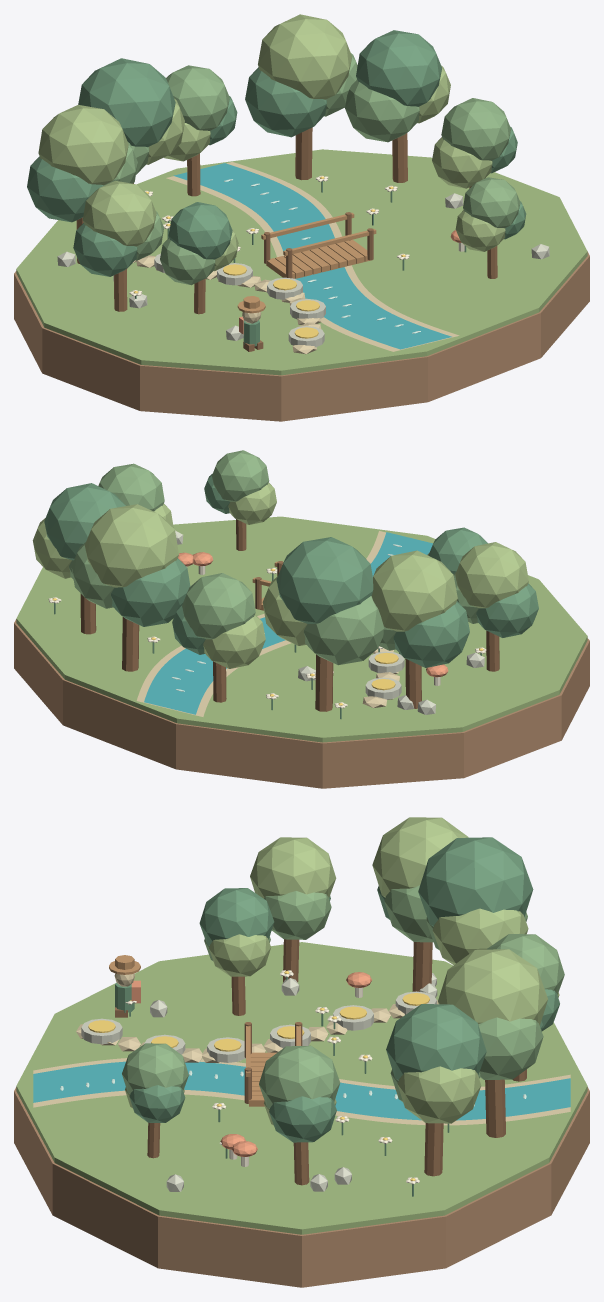
The model's file is plantini-forest.glb.
3 views of the same model, one above another, from view 1: azimuth 30°, elevation 25°; view 2: azimuth 150°, elevation 25°; view 3: azimuth 270°, elevation 25° (orthographic). The views are drawn at different scales.
Parts seen in each view (by area): view 1: Moss island top, Rounded earth island, Flowing woodland stream, Reusable canopy.011, Reusable canopy.005, Reusable canopy.002, Reusable canopy.014, Reusable canopy.020, Reusable canopy.009, Reusable canopy.017, Reusable canopy.012, Reusable canopy.008 (+20 smaller); view 2: Moss island top, Rounded earth island, Reusable canopy.005, Reusable canopy.011, Reusable canopy.002, Flowing woodland stream, Reusable canopy.003, Reusable canopy.020, Reusable canopy.008, Reusable canopy.009, Reusable canopy.014, Reusable canopy (+20 smaller); view 3: Moss island top, Rounded earth island, Flowing woodland stream, Reusable canopy.005, Reusable canopy.011, Reusable canopy.014, Reusable canopy.002, Reusable canopy.020, Reusable canopy.013, Reusable canopy.017, Reusable canopy.004, Reusable canopy.010 (+15 smaller).
Boxes of the visible parts, box(x1,y1,x2,y2) form: Moss island top: box(16, 149, 587, 375); Rounded earth island: box(14, 252, 589, 421); Flowing woodland stream: box(173, 163, 451, 349); Reusable canopy.011: box(258, 14, 351, 99); Reusable canopy.005: box(78, 58, 175, 147); Reusable canopy.002: box(38, 105, 128, 185); Reusable canopy.014: box(356, 30, 441, 106); Reusable canopy.020: box(82, 180, 156, 246); Reusable canopy.009: box(245, 67, 326, 137); Reusable canopy.017: box(441, 98, 510, 160); Reusable canopy.012: box(345, 79, 419, 142); Reusable canopy.008: box(166, 65, 229, 130); Moss island top: box(16, 516, 587, 742); Rounded earth island: box(14, 619, 589, 788); Reusable canopy.005: box(276, 537, 373, 623); Reusable canopy.011: box(84, 504, 178, 587); Reusable canopy.002: box(371, 550, 457, 631); Flowing woodland stream: box(144, 532, 432, 714); Reusable canopy.003: box(304, 596, 383, 665); Reusable canopy.020: box(455, 542, 528, 608); Reusable canopy.008: box(182, 573, 255, 639); Reusable canopy.009: box(111, 558, 190, 626); Reusable canopy.014: box(44, 483, 125, 560); Reusable canopy: box(393, 601, 469, 667); Moss island top: box(16, 942, 587, 1234); Rounded earth island: box(14, 1087, 589, 1287); Flowing woodland stream: box(33, 1061, 570, 1120); Reusable canopy.005: box(418, 837, 533, 926); Reusable canopy.011: box(438, 949, 547, 1025); Reusable canopy.014: box(386, 1004, 486, 1080); Reusable canopy.002: box(372, 817, 468, 897); Reusable canopy.020: box(250, 837, 336, 898); Reusable canopy.013: box(397, 1066, 481, 1123); Reusable canopy.017: box(259, 1045, 340, 1108); Reusable canopy.004: box(432, 908, 528, 964); Reusable canopy.010: box(478, 1017, 543, 1079).
Size of the model in its own units: 12 by 4.77 by 10.08.
